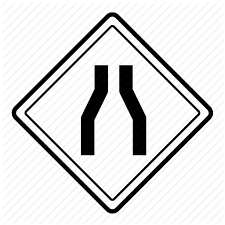Narrow_road: (11, 12, 214, 213)
